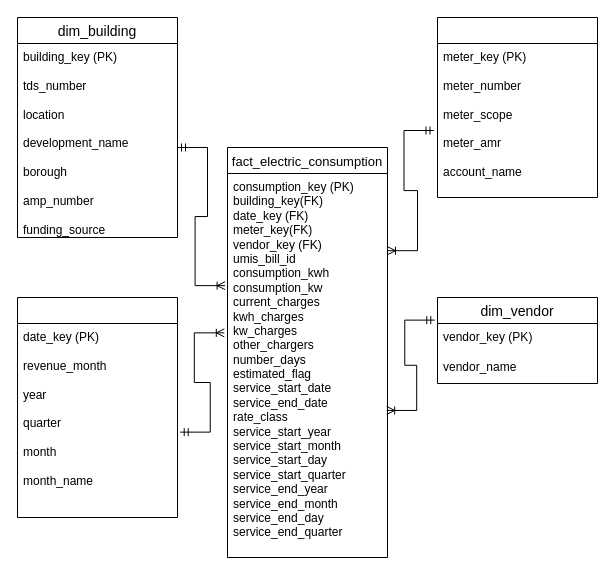
The diagram is 615 pixels wide and 578 high, and some of its shapes have lost their labels. The shapes that lost their labels are listed below. From the top down, each one's box as (x1, y1, x2, y2) in pixels, then its label:
(436, 16, 598, 198): dim_meter
(16, 296, 178, 518): dim_date
